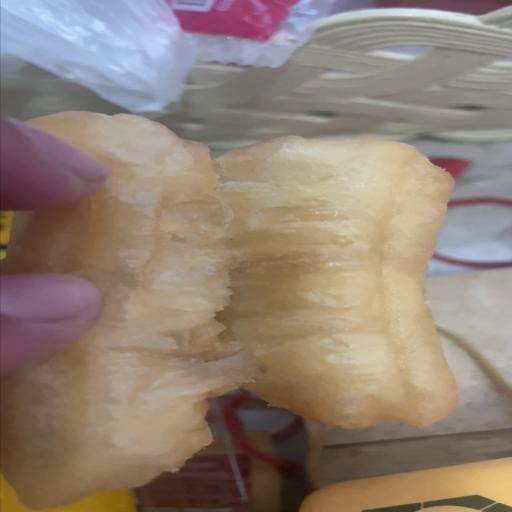street_golden_defect: (0, 130, 457, 512)
street_golden_good: (298, 458, 511, 512)
